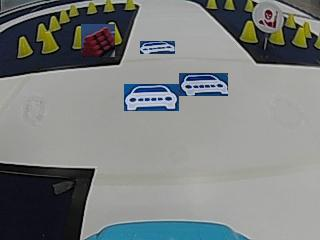evil: (252, 2, 284, 32)
